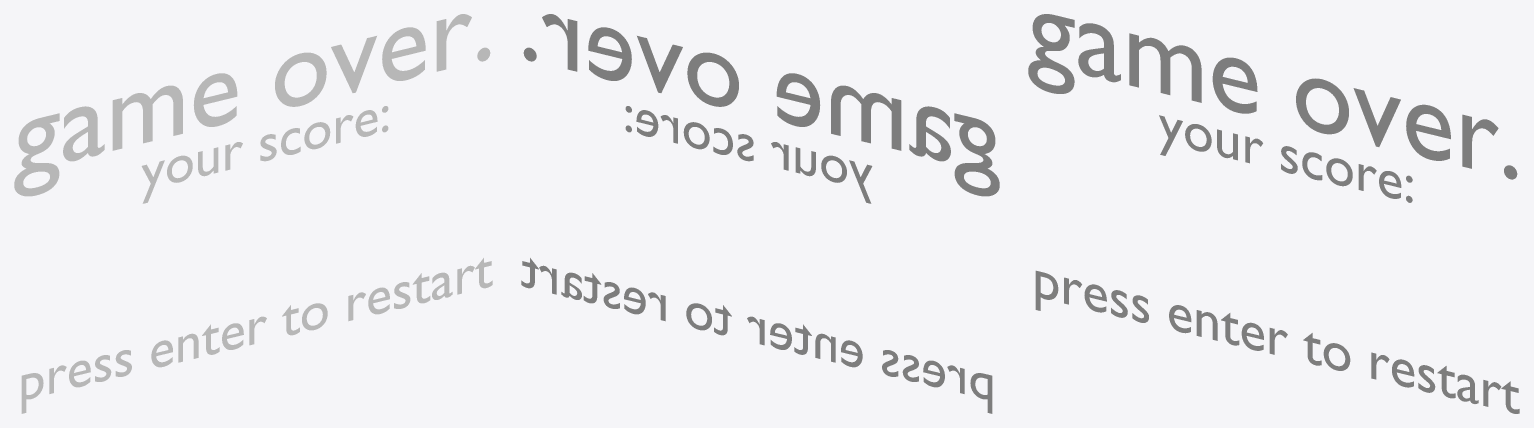
Rendered from GameOver.obj.
The picture shows the model from 3 angles, left to right: view 1: azimuth 30°, elevation 25°; view 2: azimuth 150°, elevation 25°; view 3: azimuth 330°, elevation 25°; orthographic projection. The views are drawn at different scales.
Parts seen in each view (by area): view 1: Text.002, Text.003, Text.004; view 2: Text.002, Text.003, Text.004; view 3: Text.002, Text.003, Text.004.
Part boxes in pixels (box(x1,y1,x2,y2)): Text.002: box(14, 14, 490, 196); Text.003: box(21, 258, 492, 413); Text.004: box(141, 106, 388, 203); Text.002: box(523, 14, 999, 196); Text.003: box(521, 258, 992, 413); Text.004: box(625, 106, 872, 203); Text.002: box(1028, 14, 1517, 179); Text.003: box(1035, 270, 1519, 413); Text.004: box(1159, 115, 1412, 202).
Bounding box in the file's own units: 4.44 × 2.59 × 0.
Materials: 2 (2 with a texture image).
